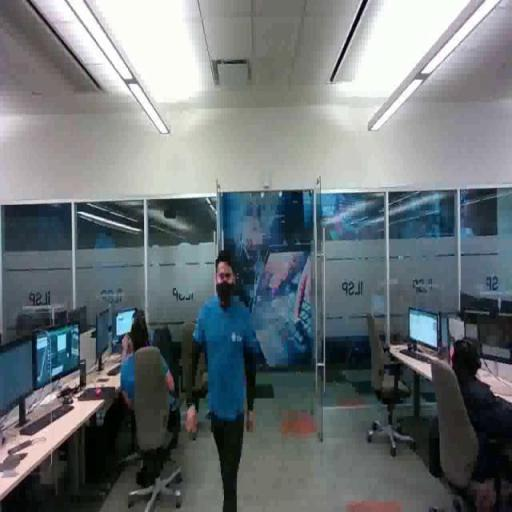person: (185, 250, 260, 512), (438, 332, 512, 507), (118, 309, 182, 477)
